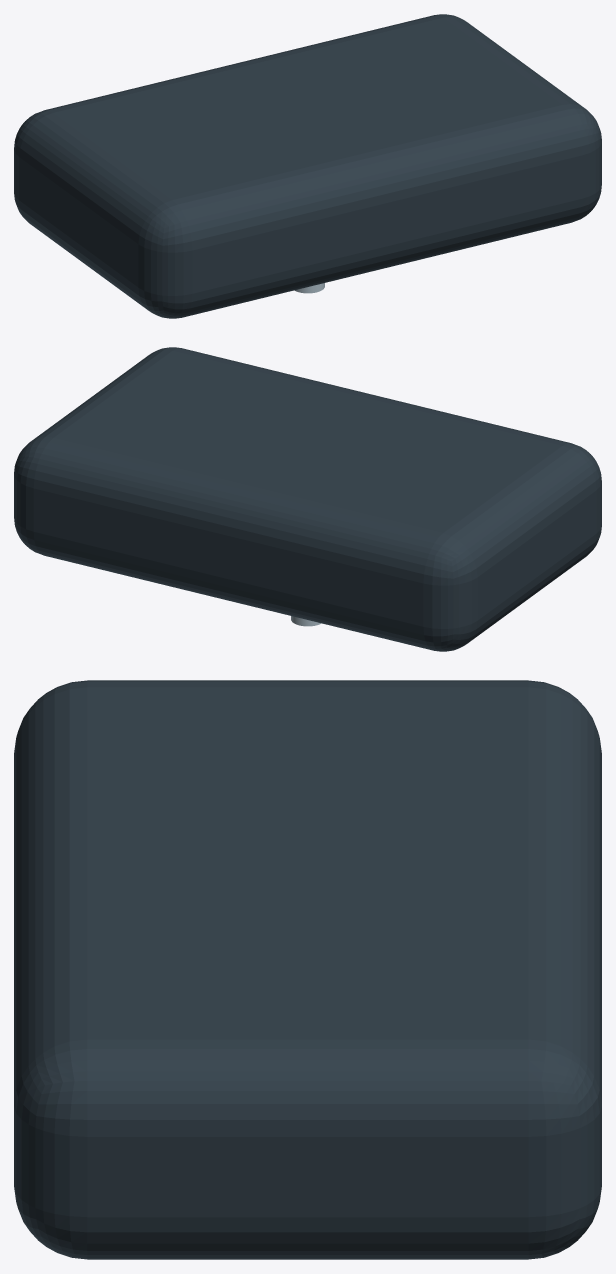
The model's file is body_33.glb.
The picture shows the model from 3 angles, top to bottom: view 1: azimuth 30°, elevation 25°; view 2: azimuth 150°, elevation 25°; view 3: azimuth 270°, elevation 25°; orthographic projection. The views are drawn at different scales.
Visible parts, largest first — view 1: asset_mesh__body_1484__reference_body; view 2: asset_mesh__body_1484__reference_body; view 3: asset_mesh__body_1484__reference_body.
Boxes of the visible parts, x1=… form: asset_mesh__body_1484__reference_body: x1=14, y1=14, x2=601, y2=318; asset_mesh__body_1484__reference_body: x1=14, y1=347, x2=601, y2=651; asset_mesh__body_1484__reference_body: x1=14, y1=680, x2=601, y2=1259.
Size of the model in its own units: 1.47 by 0.5434 by 0.882.
